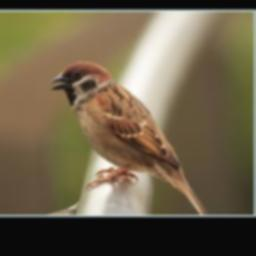Sparrow: (50, 60, 209, 215)
